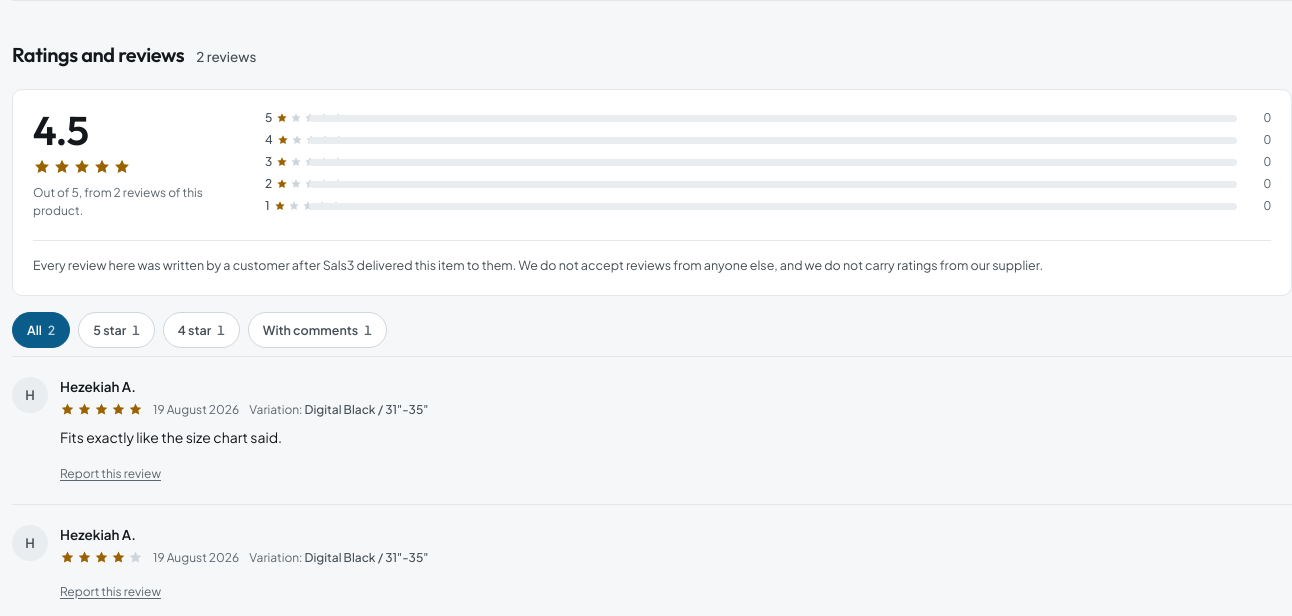
Test: ProductReviews › filters to the reviews that carry words
The image size is (1292, 616).
Click the button "With comments 1". click: (317, 330)
box: [248,312,387,348]
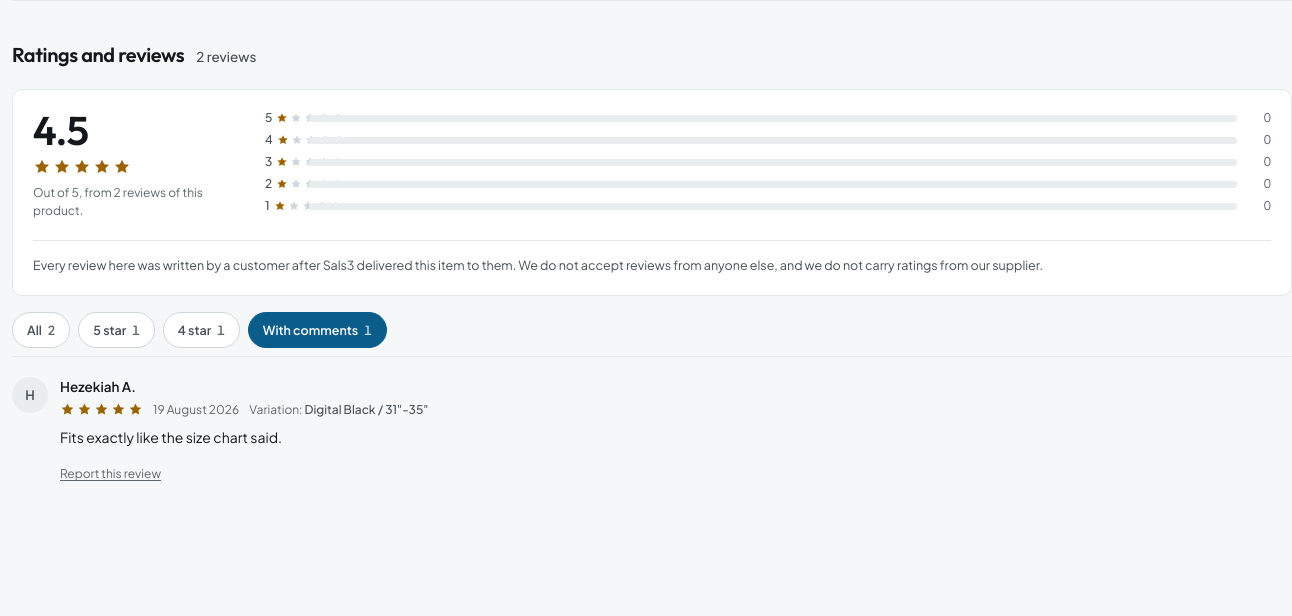
Expected: the text "Fits exactly like the size chart said." is shown, [60,428,282,446]
Now the number of list items is 1, box [12,356,1291,504]
